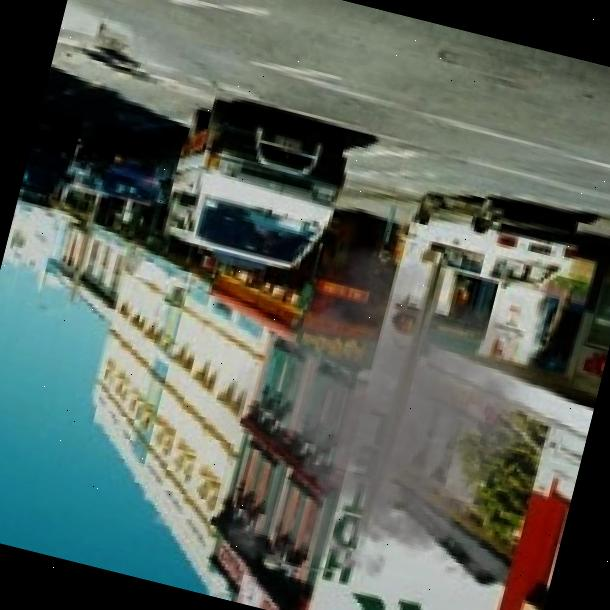smoke: (161, 210, 610, 610)
